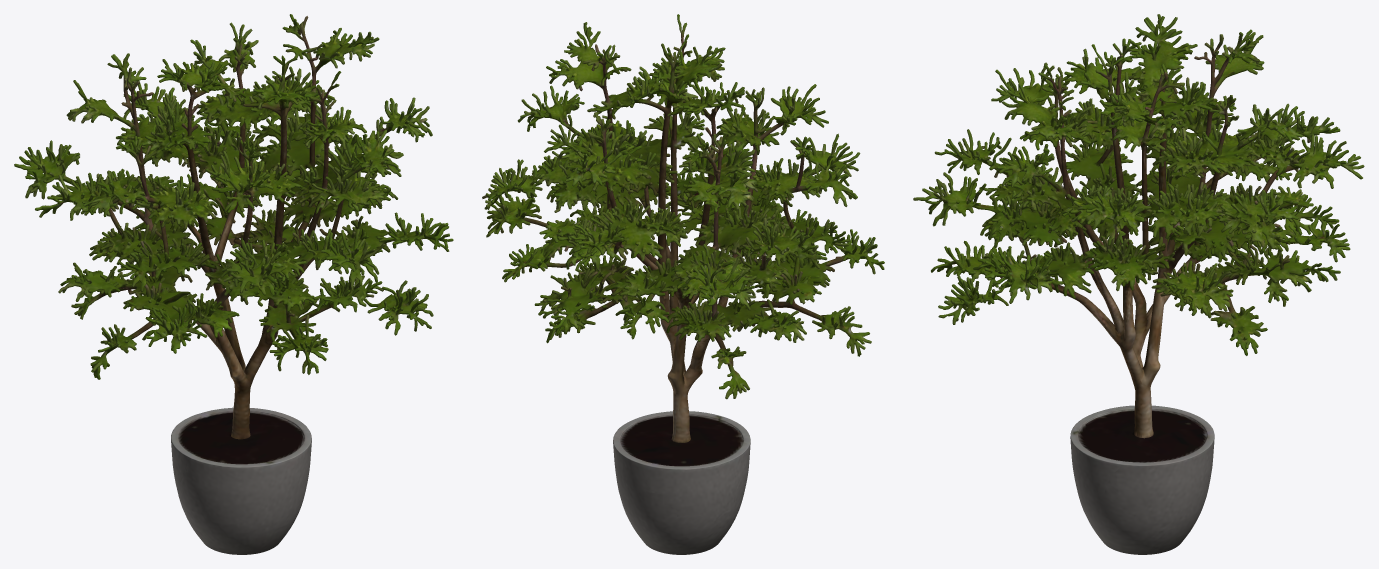
File: tree_small.glb
3 renders of one model, left to right at view 1: azimuth 30°, elevation 25°; view 2: azimuth 150°, elevation 25°; view 3: azimuth 270°, elevation 25°, orthographic. The views are drawn at different scales.
Parts seen in each view (by area): view 1: tripo_node_1b0d959a-7cf9-4ce7-a38e-07beb3e64792; view 2: tripo_node_1b0d959a-7cf9-4ce7-a38e-07beb3e64792; view 3: tripo_node_1b0d959a-7cf9-4ce7-a38e-07beb3e64792.
Boxes of the visible parts, bbox=[...] form: tripo_node_1b0d959a-7cf9-4ce7-a38e-07beb3e64792: bbox=[14, 14, 453, 554]; tripo_node_1b0d959a-7cf9-4ce7-a38e-07beb3e64792: bbox=[482, 14, 884, 554]; tripo_node_1b0d959a-7cf9-4ce7-a38e-07beb3e64792: bbox=[913, 14, 1364, 554].
Bounding box in the file's own units: 0.8987 × 1.2 × 0.9696.
1 material, 1 textured.
